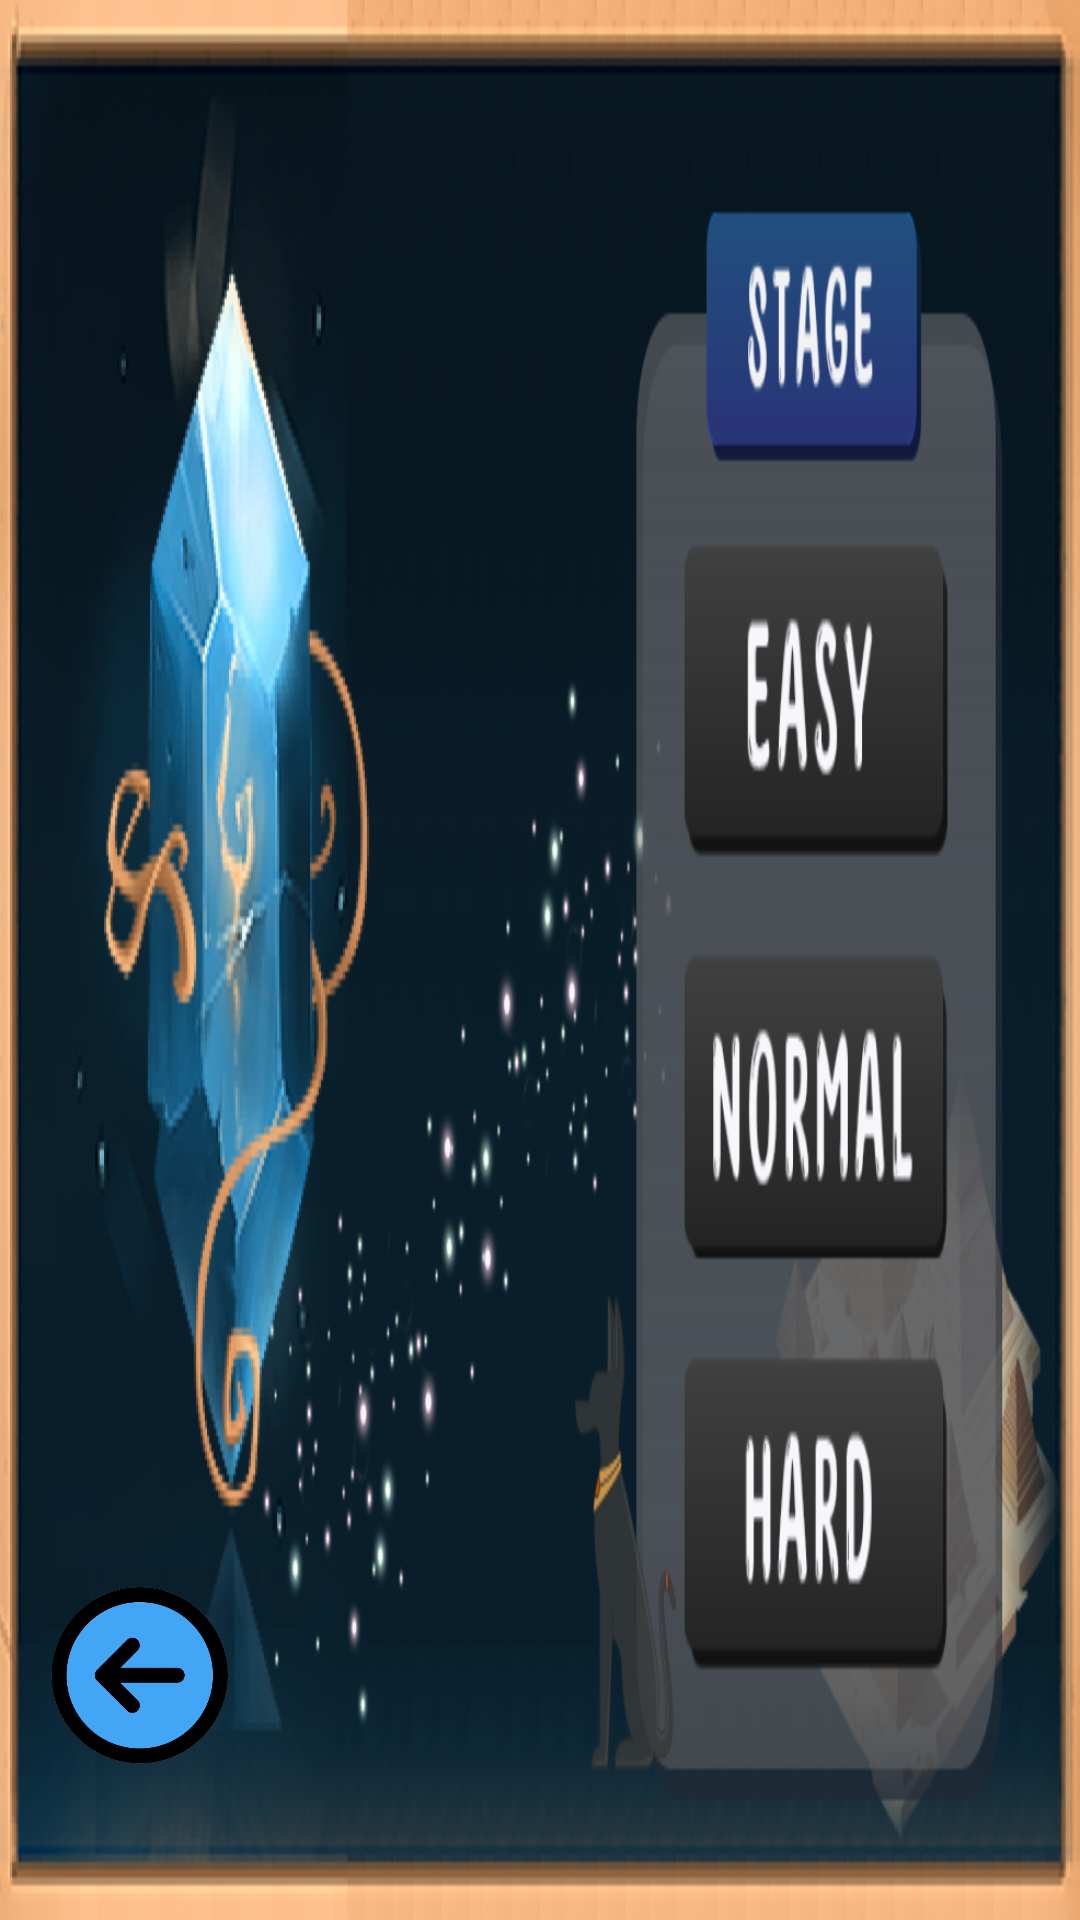

Icons on this 1080x1920 Android screen, each with its box as (x1=x1, y1=y1, x2=x2, y2=y2):
backbtn: (x1=52, y1=1587, x2=228, y2=1764)
